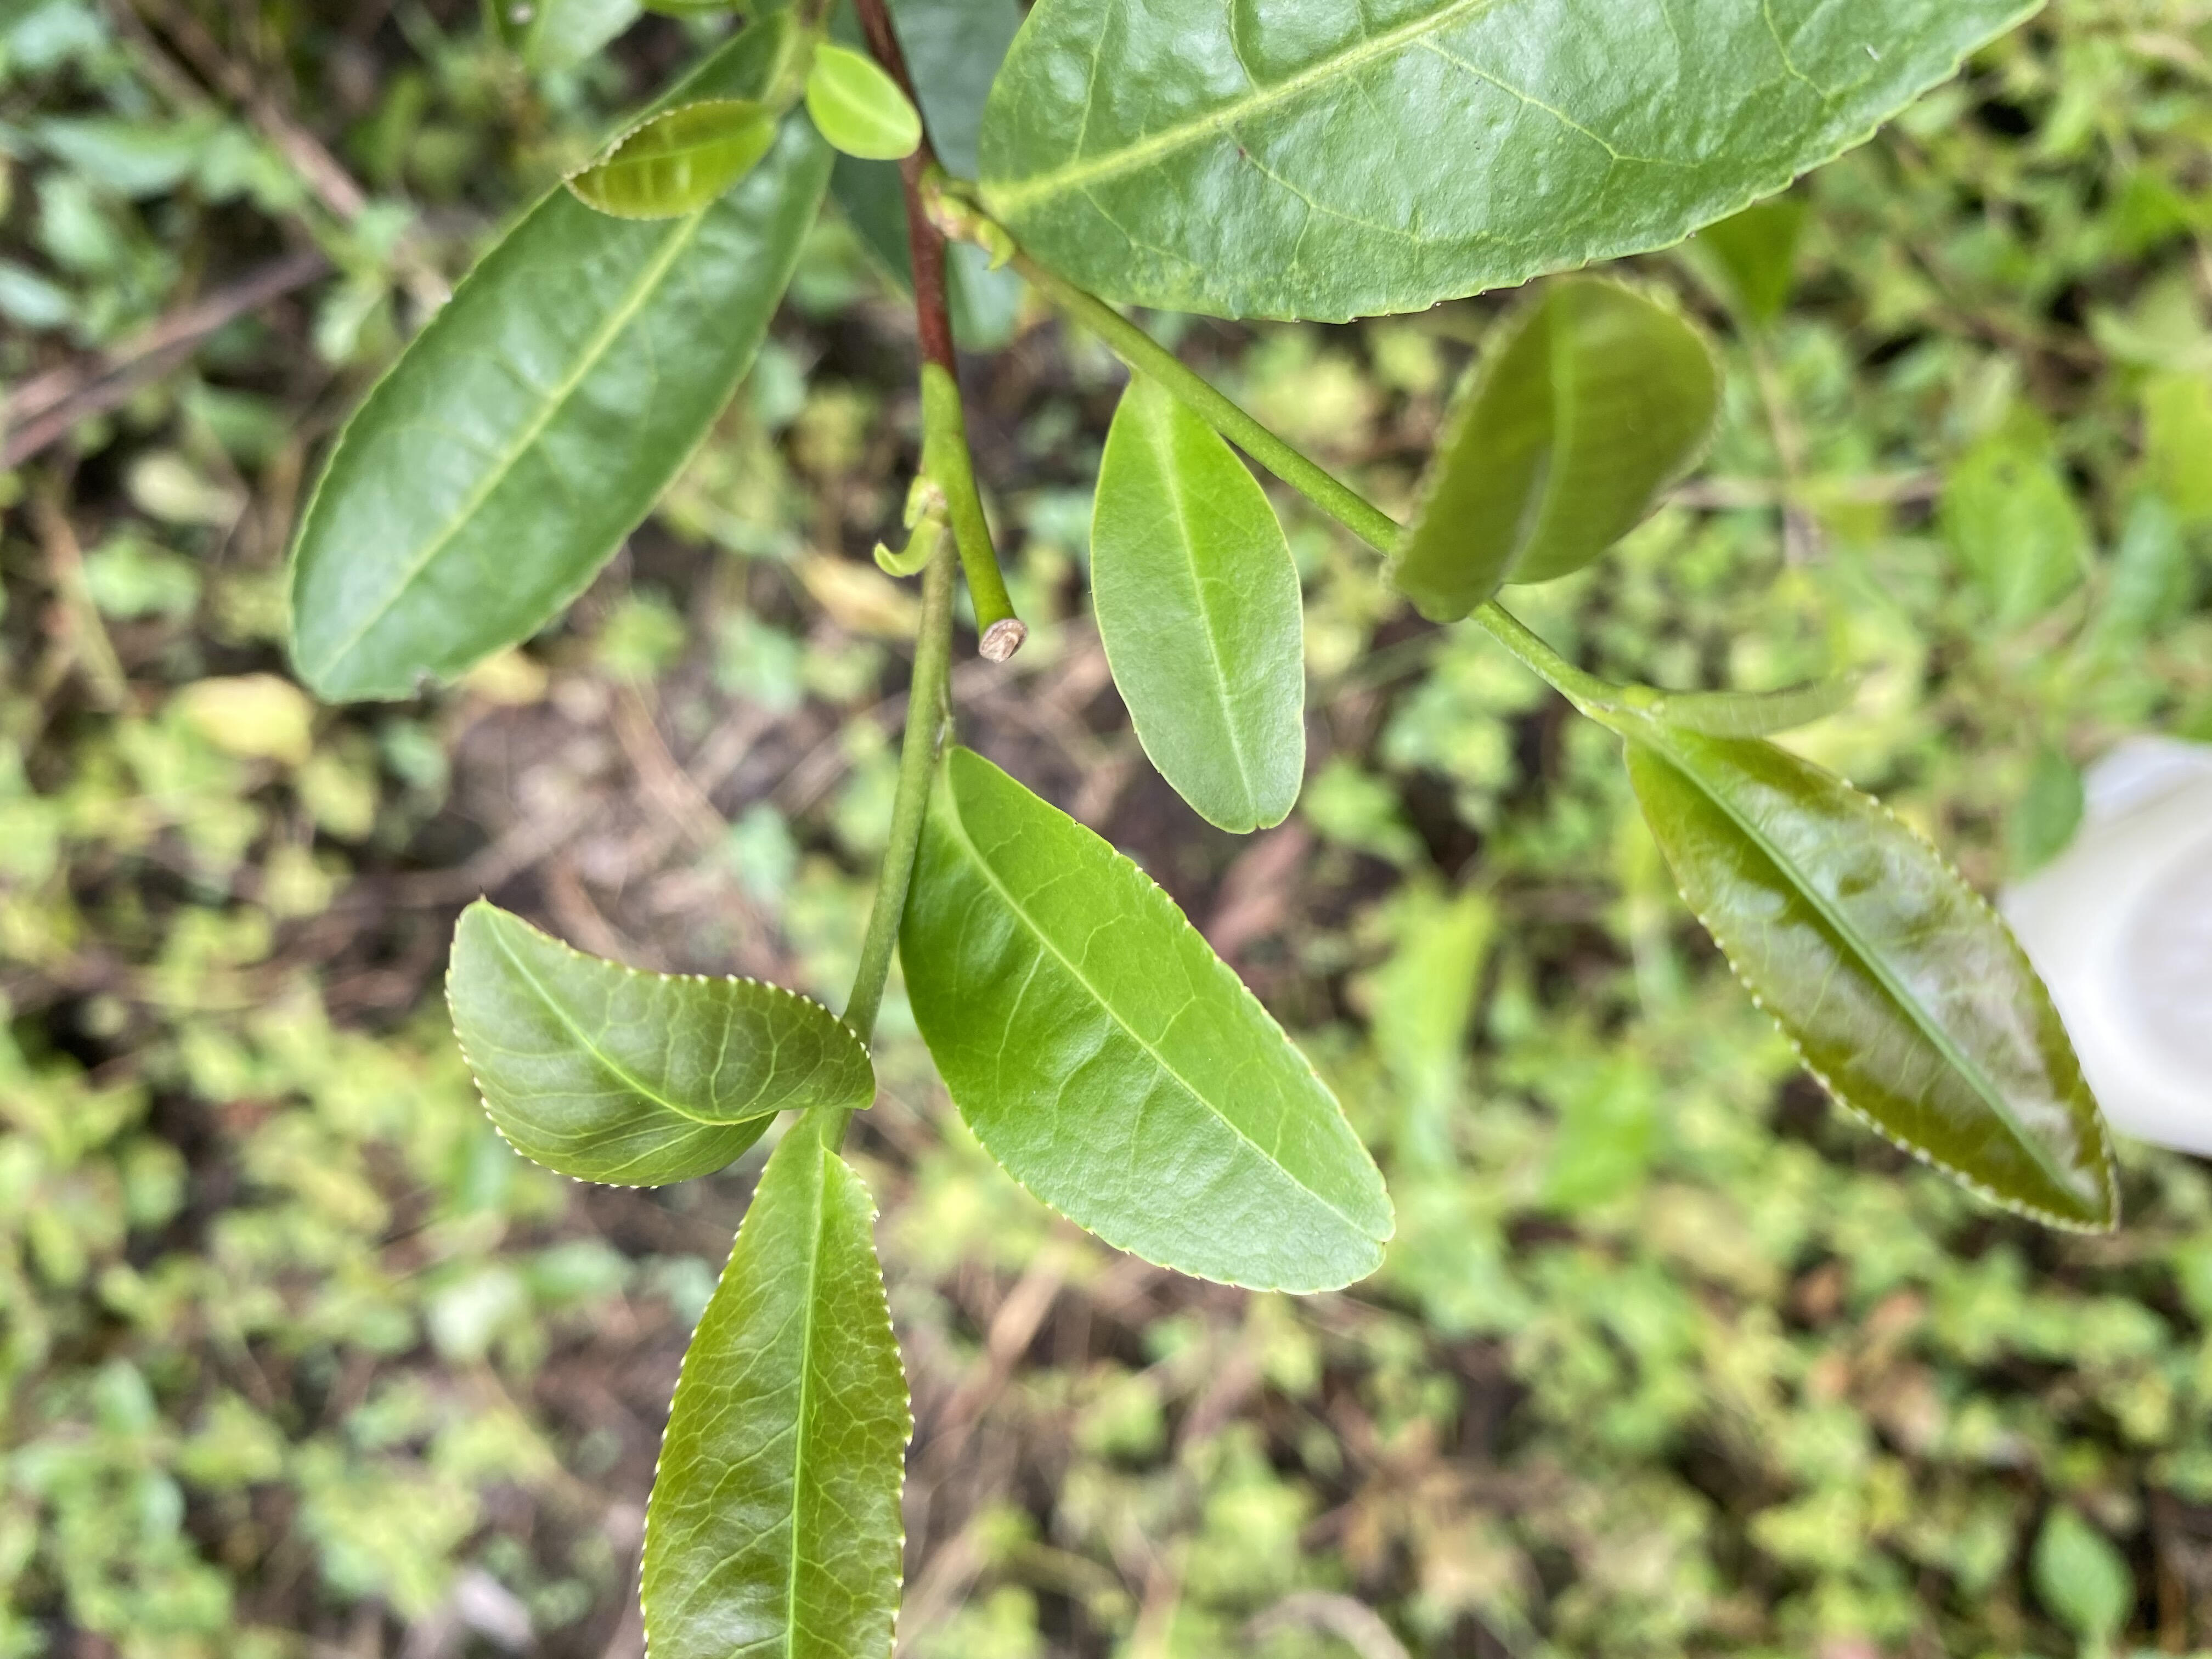healthy: (287, 14, 840, 706), (979, 3, 2048, 324), (897, 746, 1393, 1298), (1622, 734, 2123, 1239), (634, 1148, 916, 1654), (441, 894, 878, 1190), (1379, 275, 1726, 629), (1089, 375, 1306, 836), (564, 98, 775, 221), (801, 38, 921, 157)
